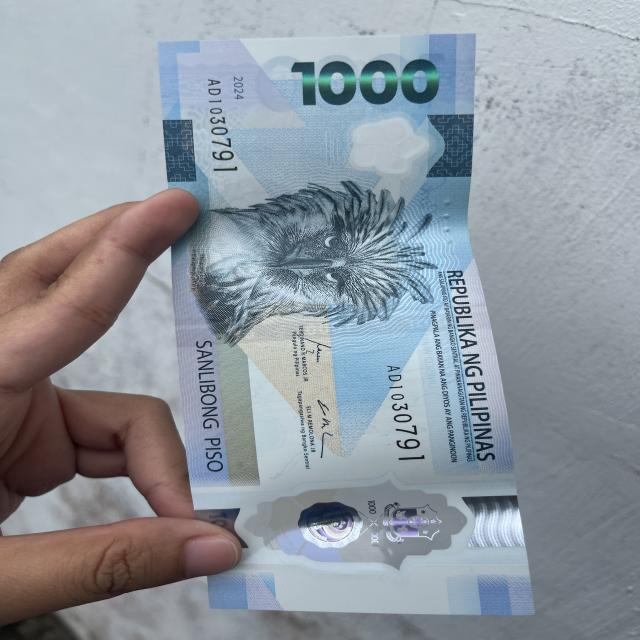clear_window: (244, 482, 469, 562)
eagle: (200, 183, 423, 323)
sampaguita: (316, 110, 436, 182)
security_thread: (178, 305, 492, 344)
serial_number: (380, 352, 437, 469), (202, 73, 248, 184)
value_watermark: (207, 509, 232, 527)
